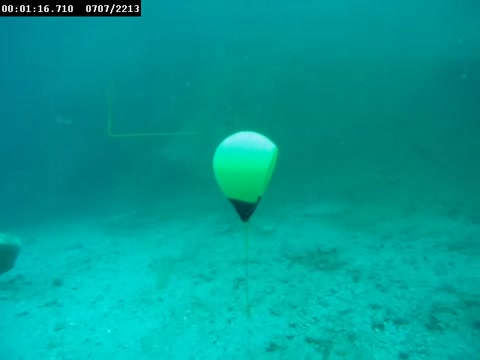buoy_green: (207, 129, 280, 225)
